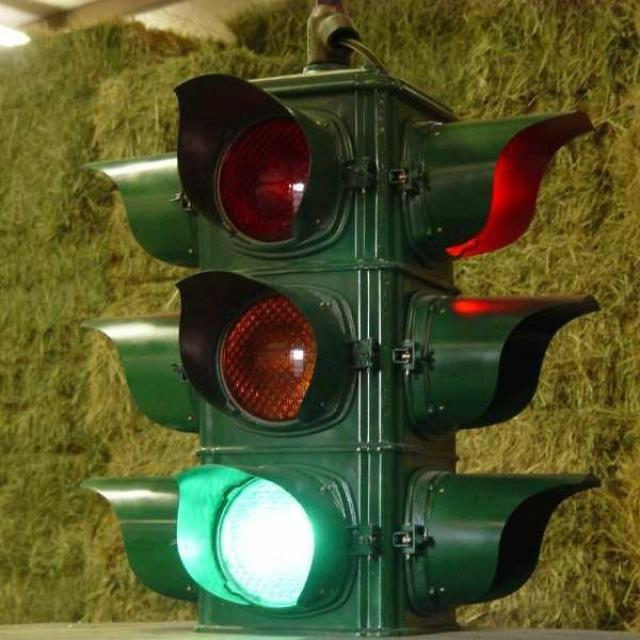Traffic Light -Green-: (174, 70, 375, 630), (195, 452, 340, 626)
